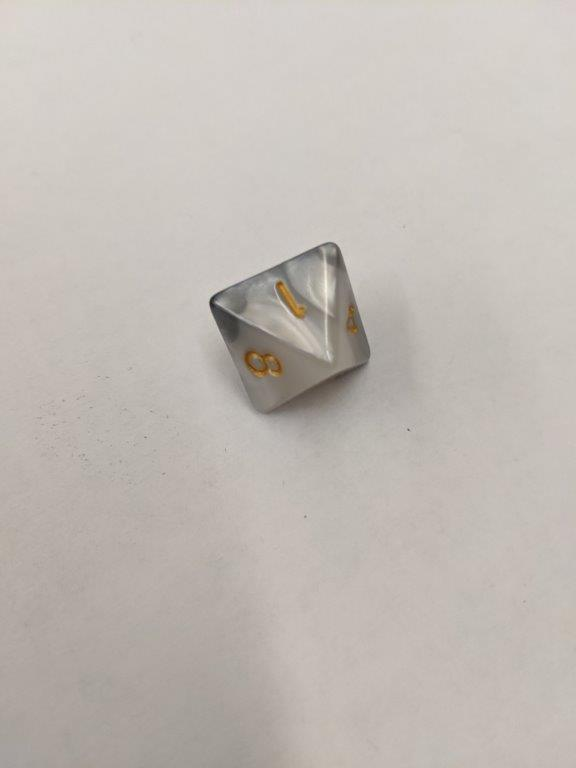d8-1: (206, 239, 375, 415)
